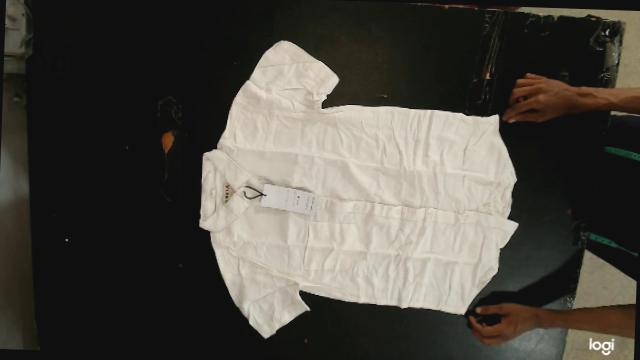new-garment: (199, 41, 518, 337)
